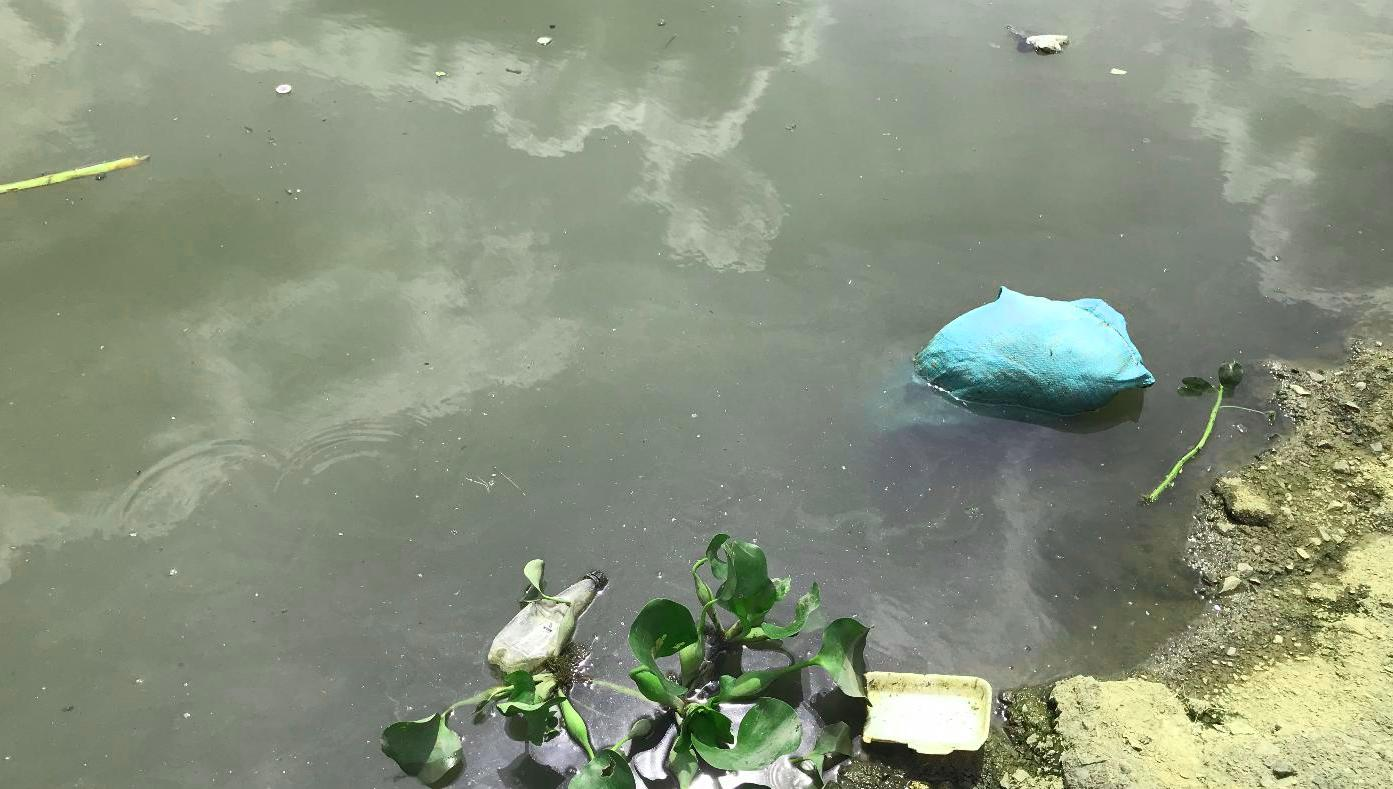Plastic: (482, 565, 610, 676), (858, 671, 995, 756)
Trash: (923, 285, 1153, 415)
